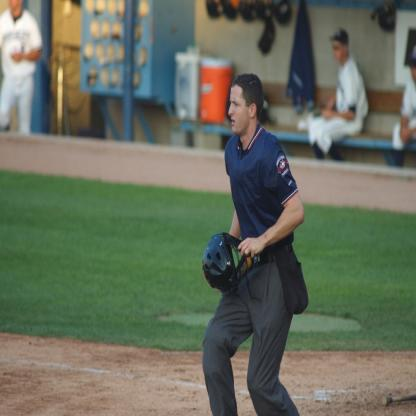Helmet: (200, 235, 240, 300)
